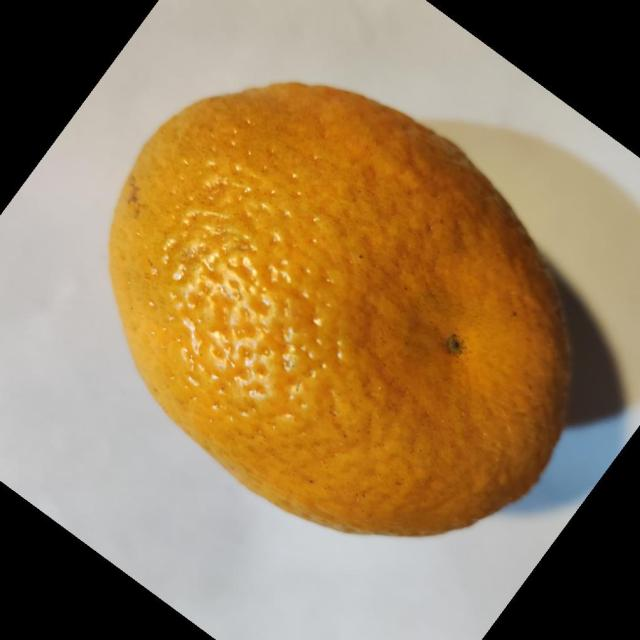fresh orange: (107, 80, 572, 538)
